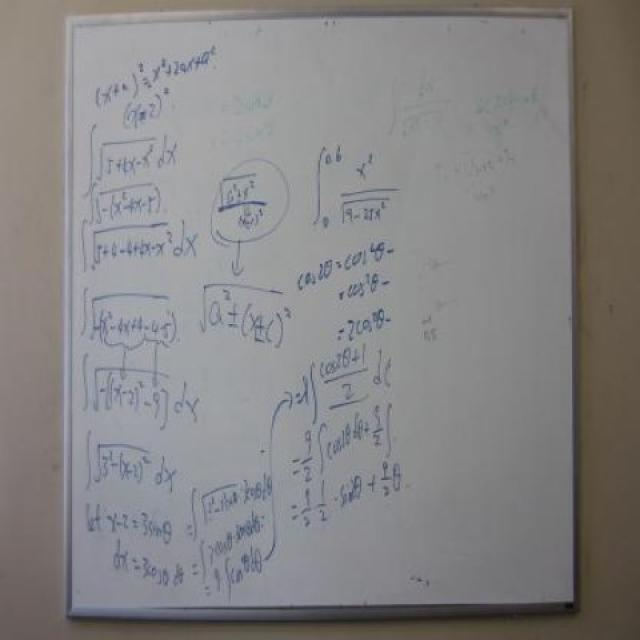White-board: (71, 12, 572, 612)
